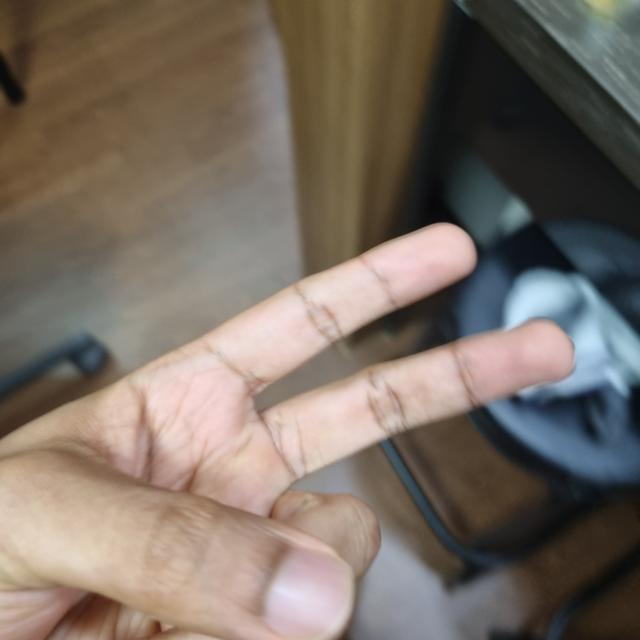Scissors: (1, 230, 571, 640)
